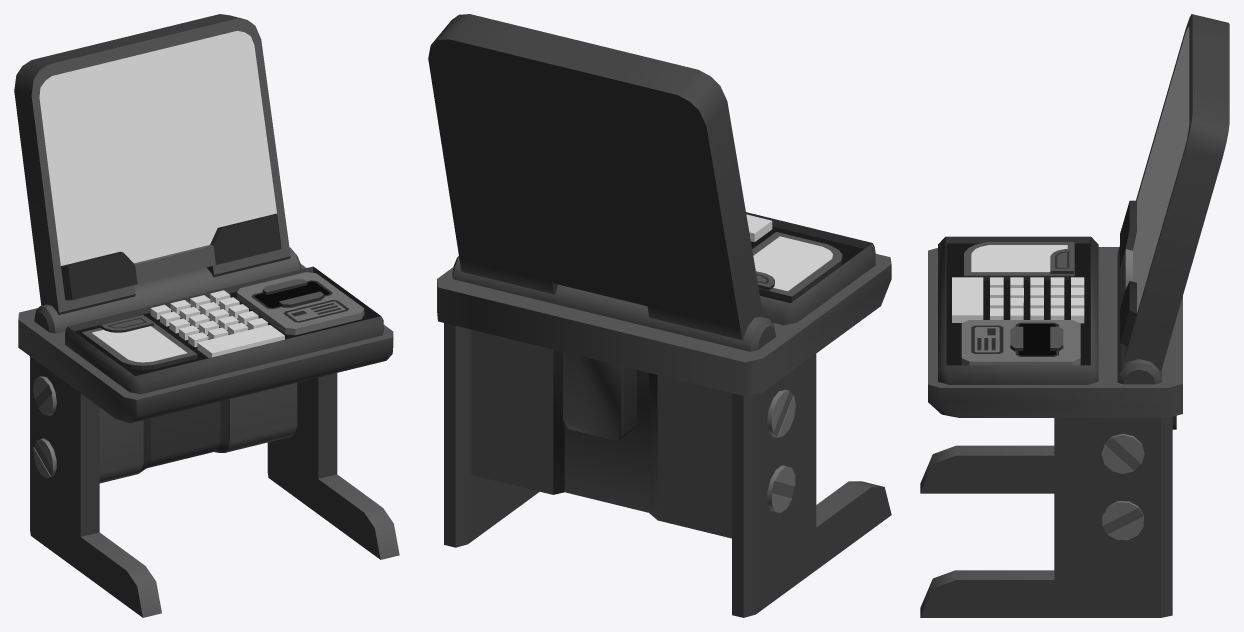
Rendered from Console - Surgery.fbx.
The picture shows the model from 3 angles, left to right: view 1: azimuth 30°, elevation 25°; view 2: azimuth 150°, elevation 25°; view 3: azimuth 270°, elevation 25°; orthographic projection. The views are drawn at different scales.
Visible parts, largest first — view 1: ConsoleLower, Screen Glass, ConsoleUpper, IDslot, Keyboard, FingertipScannerBase, FingertipScanner_Surgery; view 2: ConsoleLower, ConsoleUpper, FingertipScanner_Surgery, FingertipScannerBase; view 3: ConsoleLower, ConsoleUpper, Screen Glass, IDslot, Keyboard, FingertipScanner_Surgery, FingertipScannerBase.
Boxes of the visible parts, box(x1,y1,x2,y2) form: ConsoleLower: box(18, 247, 399, 617); Screen Glass: box(39, 31, 276, 265); ConsoleUpper: box(14, 14, 290, 314); IDslot: box(237, 272, 364, 335); Keyboard: box(150, 290, 284, 357); FingertipScannerBase: box(81, 315, 197, 369); FingertipScanner_Surgery: box(92, 326, 186, 362); ConsoleLower: box(437, 212, 891, 617); ConsoleUpper: box(428, 14, 762, 340); FingertipScanner_Surgery: box(753, 236, 832, 290); FingertipScannerBase: box(752, 232, 842, 301); ConsoleLower: box(920, 236, 1182, 617); ConsoleUpper: box(1120, 14, 1229, 371); Screen Glass: box(1133, 27, 1189, 312); IDslot: box(961, 320, 1080, 365); Keyboard: box(952, 277, 1084, 323); FingertipScanner_Surgery: box(971, 245, 1067, 271); FingertipScannerBase: box(964, 242, 1074, 280).
Size of the model in its own units: 0.9748 by 1.57 by 0.9052.
